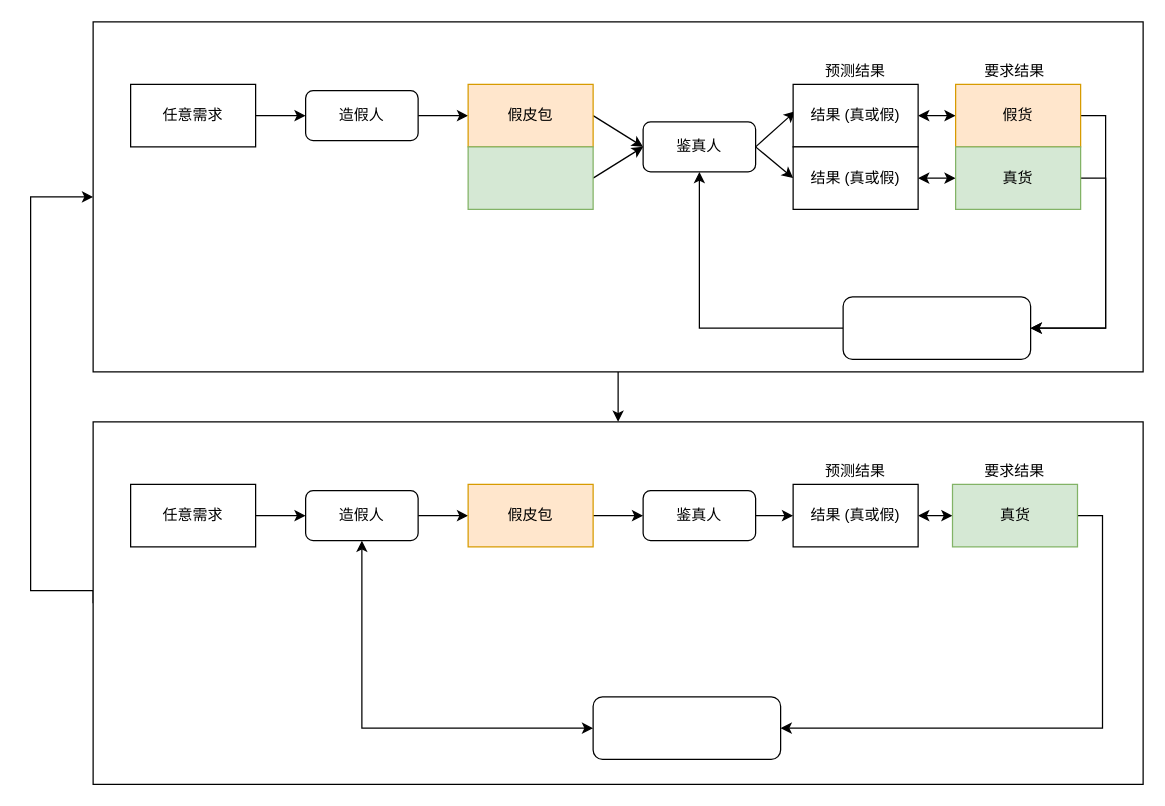
Some shapes in this 1165 by 806 pixel diagram are drawn without their labels. The shapes that lost their labels are listed below. From the top down, each one's box as (x1, y1, x2, y2) in pixels, then its label:
(467, 146, 593, 209): 真皮包
(92, 21, 1143, 372): 训练鉴真人
(842, 296, 1031, 359): 事后告诉鉴真人哪个皮包是真的，哪个皮包是假的 以提升鉴真人的鉴定能力
(92, 421, 1143, 784): 训练造假人
(592, 696, 781, 759): 事后告诉造假人哪些部分鉴真人觉得是假的 以提升造假人的造假能力
